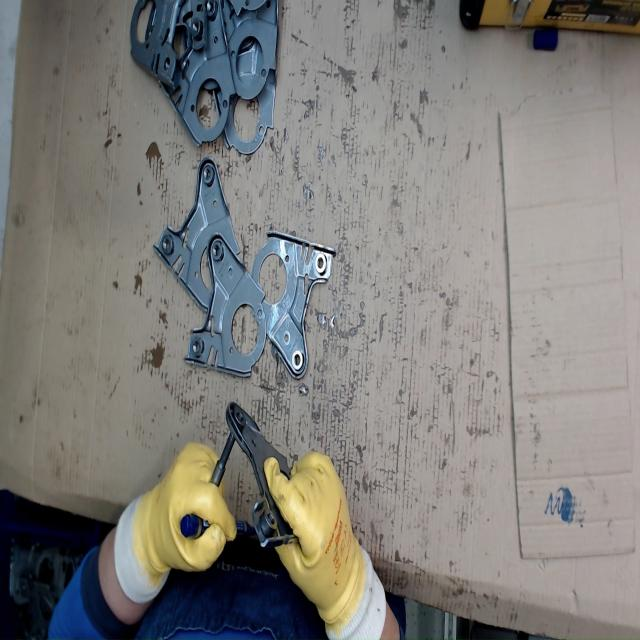hands: (262, 450, 368, 626), (133, 441, 240, 575)
